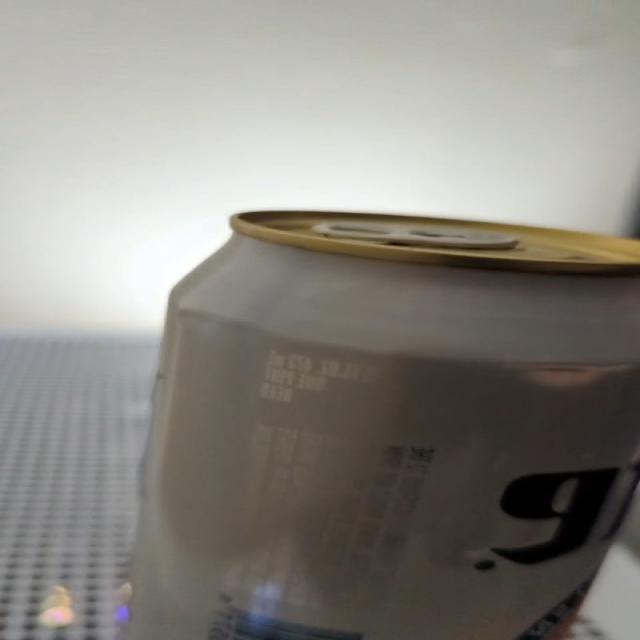metal: (131, 211, 640, 639)
